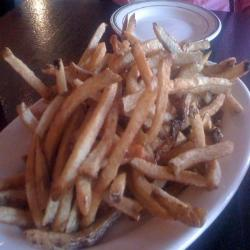fries: (64, 76, 191, 195)
